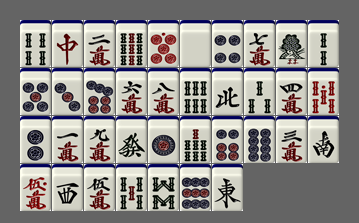0m: (20, 164, 51, 211)
0p: (148, 20, 179, 67)
0s: (308, 68, 339, 115)
1m: (52, 116, 83, 163)
1p: (148, 116, 179, 163)
1s: (276, 20, 307, 67)
1z: (212, 164, 243, 211)
2m: (84, 20, 115, 67)
2p: (20, 116, 51, 163)
2s: (308, 20, 339, 67)
2z: (308, 116, 339, 163)
3m: (276, 116, 307, 163)
3p: (52, 68, 83, 115)
3s: (244, 68, 275, 115)
3z: (52, 164, 83, 211)
4m: (276, 68, 307, 115)
4p: (212, 20, 243, 67)
4s: (20, 20, 51, 67)
4z: (212, 68, 243, 115)
5m: (84, 164, 115, 211)
5p: (20, 68, 51, 115)
5s: (116, 164, 147, 211)
5z: (180, 20, 211, 67)
6m: (116, 68, 147, 115)
6p: (212, 116, 243, 163)
6s: (180, 68, 211, 115)
6z: (116, 116, 147, 163)
7m: (244, 20, 275, 67)
7p: (84, 68, 115, 115)
7s: (180, 116, 211, 163)
7z: (52, 20, 83, 67)
8m: (148, 68, 179, 115)
8p: (244, 116, 275, 163)
8s: (148, 164, 179, 211)
9m: (84, 116, 115, 163)
9p: (180, 164, 211, 211)
9s: (116, 20, 147, 67)
